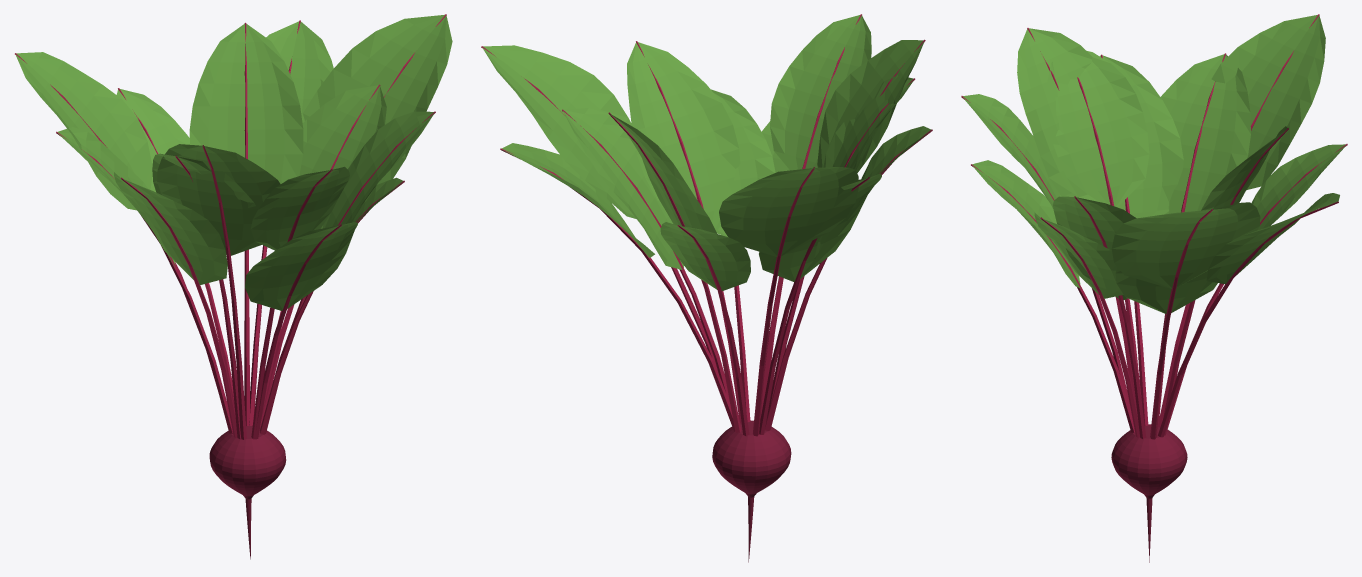
Rendered from beetroot_harvest_v21.glb.
3 views of the same model, side by side, from view 1: azimuth 30°, elevation 25°; view 2: azimuth 150°, elevation 25°; view 3: azimuth 270°, elevation 25° (orthographic). The views are drawn at different scales.
Parts seen in each view (by area): view 1: plant; view 2: plant; view 3: plant.
Part boxes in pixels (x1,y1,x2,y2): plant: [15, 14, 452, 559]; plant: [481, 14, 932, 562]; plant: [961, 14, 1347, 562].
Bounding box in the file's own units: 0.4067 × 0.4947 × 0.359.
1 material, 1 textured.
